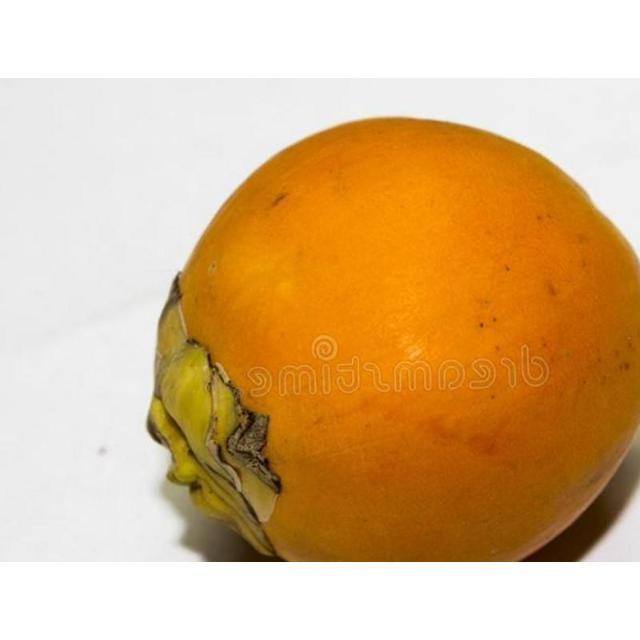good: (145, 117, 639, 561)
